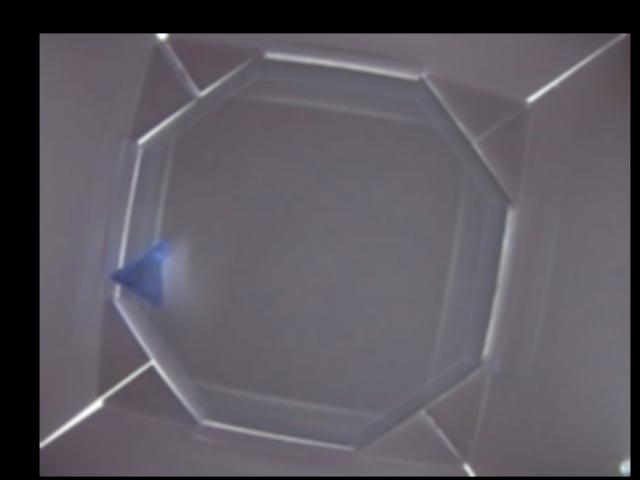Mooli: (111, 238, 173, 305)
